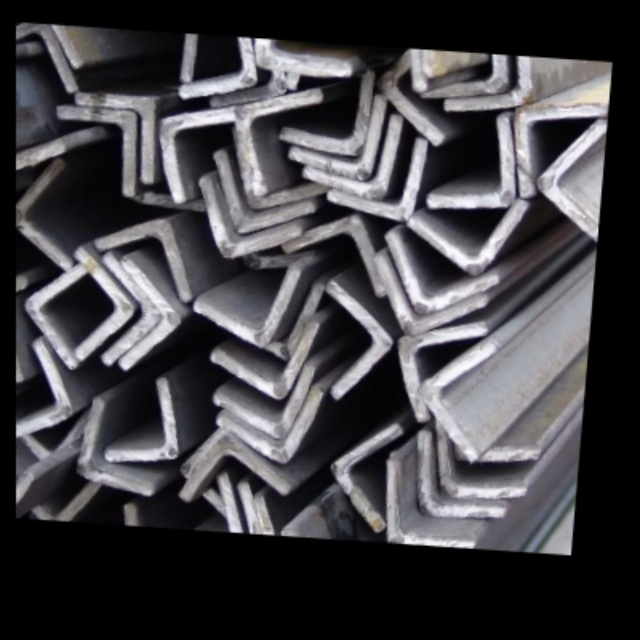Angle: (384, 237, 499, 312), (433, 119, 515, 212), (423, 345, 489, 454), (402, 327, 480, 418), (386, 468, 474, 548), (415, 440, 504, 517), (325, 294, 394, 393), (215, 327, 312, 396), (546, 126, 607, 235), (375, 267, 482, 329), (415, 204, 517, 269), (238, 94, 312, 183), (183, 443, 290, 504), (307, 118, 395, 191), (432, 427, 522, 497), (200, 189, 296, 254), (285, 75, 370, 148), (215, 368, 307, 435), (226, 390, 316, 458), (513, 104, 588, 185), (59, 113, 136, 191), (75, 100, 154, 174), (105, 225, 187, 296), (336, 145, 419, 215), (218, 170, 313, 230), (195, 281, 289, 340), (121, 264, 174, 366), (85, 407, 149, 491), (74, 254, 127, 355), (296, 227, 381, 289), (301, 102, 379, 168), (339, 432, 393, 526), (103, 266, 155, 362), (26, 269, 80, 359), (21, 163, 73, 256), (16, 347, 68, 435), (116, 389, 180, 457), (389, 57, 445, 134), (455, 52, 527, 109), (327, 43, 424, 83), (190, 34, 252, 95), (16, 25, 75, 87), (431, 50, 500, 100), (16, 105, 65, 173), (16, 20, 79, 63)
